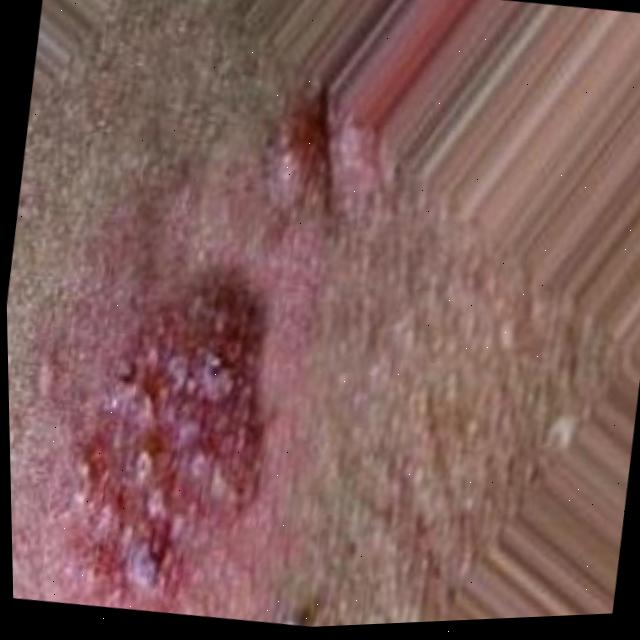Shingles: (48, 260, 294, 616)
